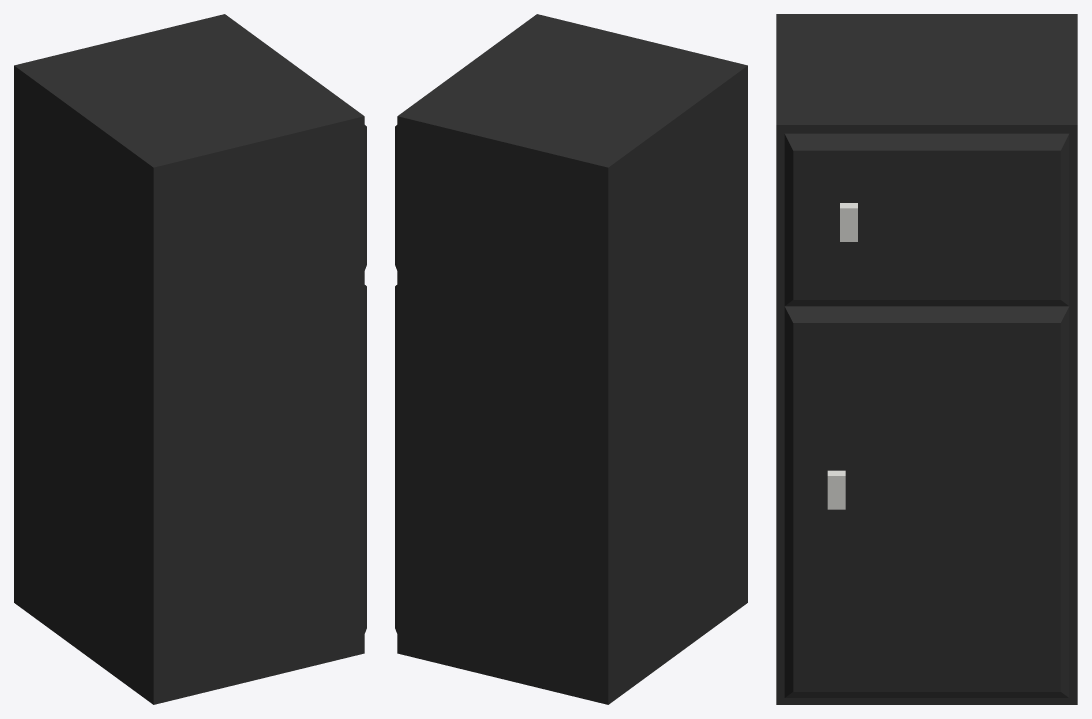
Rendered from fridge.fbx.
3 renders of one model, left to right at view 1: azimuth 30°, elevation 25°; view 2: azimuth 150°, elevation 25°; view 3: azimuth 270°, elevation 25°, orthographic. The views are drawn at different scales.
Parts seen in each view (by area): view 1: Cube.001; view 2: Cube.001; view 3: Cube.001.
Part boxes in pixels (x1=…): Cube.001: x1=14, y1=14, x2=366, y2=704; Cube.001: x1=395, y1=14, x2=747, y2=704; Cube.001: x1=776, y1=14, x2=1077, y2=704.
Bounding box in the file's own units: 121 × 116 × 258.
